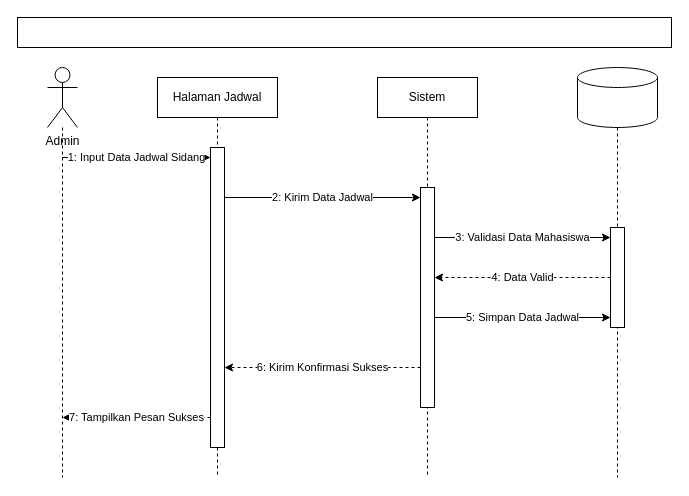
This 689x496 diagram has some shape labels left out. The centre of each missing label's shape, as x and y in pixels:
Database: the point at 617,97
SEQUENCE DIAGRAM ADMIN KELOLA JADWAL SIDANG: the point at 344,32
